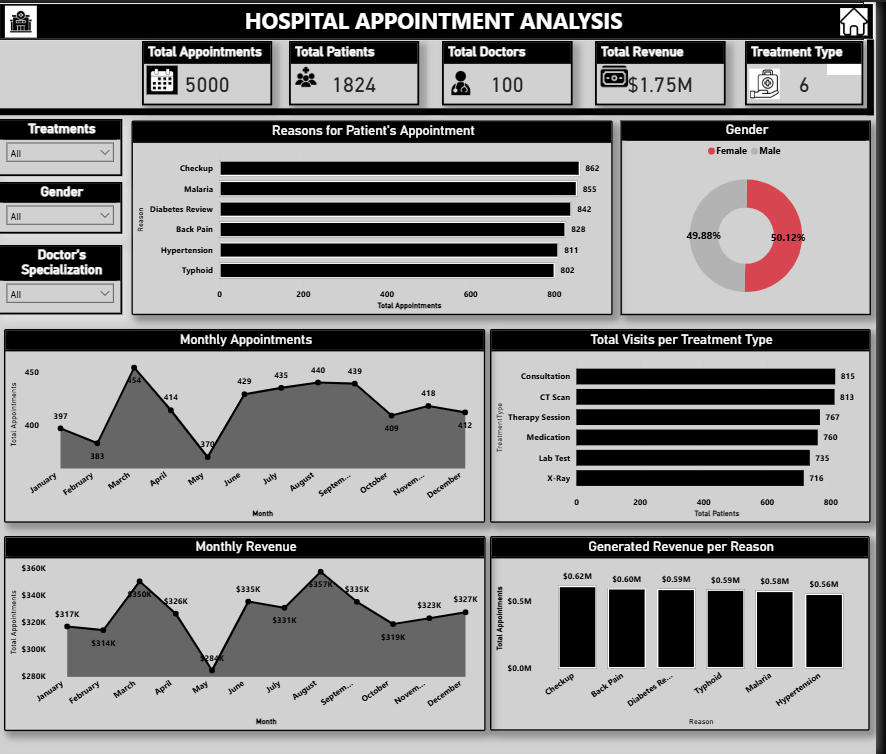

The page's visual inventory and layout, read from the dashboard file:
{"tool":"powerbi","page":{"name":"Edited Patient Analysis","canvas":[1280,1100],"ordinal":2},"visuals":[{"type":"shape","box":[0,0,1279.4,56.7],"z":0},{"type":"card","title":"Total Patients","fields":{"Values":["Count(Appointments.PatientID)"]},"box":[424.5,56.9,190,94.1],"z":0,"group":"g1"},{"type":"card","title":"Total Appointments","fields":{"Values":["Count(Appointments.AppointmentID)"]},"box":[210.1,56.9,190,94.1],"z":1000},{"type":"card","title":"Treatment Type","fields":{"Values":["Count(Treatment.TreatmentType)"]},"box":[1089.8,56.9,172.9,94.1],"z":1000,"group":"g3"},{"type":"shape","box":[0,153.2,1277.2,13.9],"z":2000},{"type":"shape","box":[1267.1,53.7,11.4,110.6],"z":3000},{"type":"card","title":"Total Doctors","fields":{"Values":["Count(Staff.DoctorID)"]},"box":[647.8,56.9,190.4,94.1],"z":3000,"group":"g2"},{"type":"slicer","title":"Treatments","fields":{"Values":["Treatment.TreatmentType"]},"box":[0,171.1,181,83.6],"z":4000},{"type":"donutChart","title":"Gender","fields":{"Category":["Patients.Gender"],"Y":["CountNonNull(Appointments.PatientID)"]},"box":[907.2,171.9,365.3,284.1],"z":5000},{"type":"clusteredBarChart","title":"Reasons for Patient''s Appointment","fields":{"Category":["Appointments.Reason"],"Y":["CountNonNull(Appointments.PatientID)"]},"box":[195.8,171.9,701.9,284.1],"z":6000},{"type":"lineChart","title":"Monthly Appointments","fields":{"Category":["Date_Table.Month"],"Y":["CountNonNull(Appointments.AppointmentID)"]},"box":[8,477.5,702.3,282.5],"z":7000},{"type":"clusteredBarChart","title":"Total Visits per Treatment Type","fields":{"Category":["Treatment.TreatmentType"],"Y":["CountNonNull(Appointments.PatientID)"]},"box":[718.2,477.5,555.1,282.5],"z":8000},{"type":"image","box":[425.2,82.9,49.1,51.6],"z":8008,"group":"g1"},{"type":"image","box":[652.7,92.1,46,52.5],"z":8010,"group":"g2"},{"type":"textbox","box":[0,0,1262.2,53.7],"z":9000},{"type":"slicer","title":"Gender","fields":{"Values":["Patients.Gender"]},"box":[0,262.6,181,75.6],"z":10000},{"type":"slicer","title":"Doctor''s Specialization","fields":{"Values":["Staff.Specialization"]},"box":[0,354.1,181,101.5],"z":11000},{"type":"group","id":"g1","title":"Group 1","box":[424.5,56.9,190.4,94.1],"z":12000},{"type":"group","id":"g2","title":"Group 2","box":[647.8,56.9,190.4,94.1],"z":13000},{"type":"image","box":[210.1,87.5,59.1,52.5],"z":14000},{"type":"image","box":[1223.2,1.6,50.4,53.7],"z":15000},{"type":"card","title":"Total Revenue","fields":{"Values":["Sum(Billing.Amount)"]},"box":[871.2,56.6,190.4,94.1],"z":15000,"group":"g4"},{"type":"image","box":[873.4,82.9,52.5,50.3],"z":16000,"group":"g4"},{"type":"lineChart","title":"Monthly Revenue","fields":{"Category":["Date_Table.Month"],"Y":["Sum(Billing.Amount)"]},"box":[8.8,779.1,702.5,284.5],"z":16000},{"type":"clusteredColumnChart","title":"Generated Revenue per Reason","fields":{"Category":["Appointments.Reason"],"Y":["Sum(Billing.Amount)"]},"box":[718.6,778.3,553.9,284.1],"z":17000},{"type":"image","box":[0,0,67.1,57.2],"z":18000},{"type":"image","box":[1090.2,92.1,56.9,54.7],"z":18000,"group":"g3"},{"type":"group","id":"g3","title":"Group 3","box":[1089.8,56.9,172.9,94.1],"z":19000},{"type":"group","id":"g4","title":"Group 4","box":[871.2,56.6,190.4,94.1],"z":20000}]}

Visuals, with their boxes in screenshot pixels (x1, y1, x2, y2), scaled from the page's 1280x1100 canvas onto the 886x754 screenshot:
shape: [0,0,885,39]
"Total Patients" card: [294,39,425,104]
"Total Appointments" card: [145,39,277,104]
"Treatment Type" card: [754,39,874,104]
shape: [0,105,884,115]
shape: [877,37,885,113]
"Total Doctors" card: [448,39,580,104]
"Treatments" slicer: [0,117,125,175]
"Gender" donutChart: [628,118,881,313]
"Reasons for Patient''s Appointment" clusteredBarChart: [136,118,621,313]
"Monthly Appointments" lineChart: [6,327,492,521]
"Total Visits per Treatment Type" clusteredBarChart: [497,327,881,521]
image: [294,57,328,92]
image: [452,63,484,99]
textbox: [0,0,874,37]
"Gender" slicer: [0,180,125,232]
"Doctor''s Specialization" slicer: [0,243,125,312]
"Group 1" group: [294,39,426,104]
"Group 2" group: [448,39,580,104]
image: [145,60,186,96]
image: [847,1,882,38]
"Total Revenue" card: [603,39,735,103]
image: [605,57,641,91]
"Monthly Revenue" lineChart: [6,534,492,729]
"Generated Revenue per Reason" clusteredColumnChart: [497,533,881,728]
image: [0,0,46,39]
image: [755,63,794,101]
"Group 3" group: [754,39,874,104]
"Group 4" group: [603,39,735,103]
